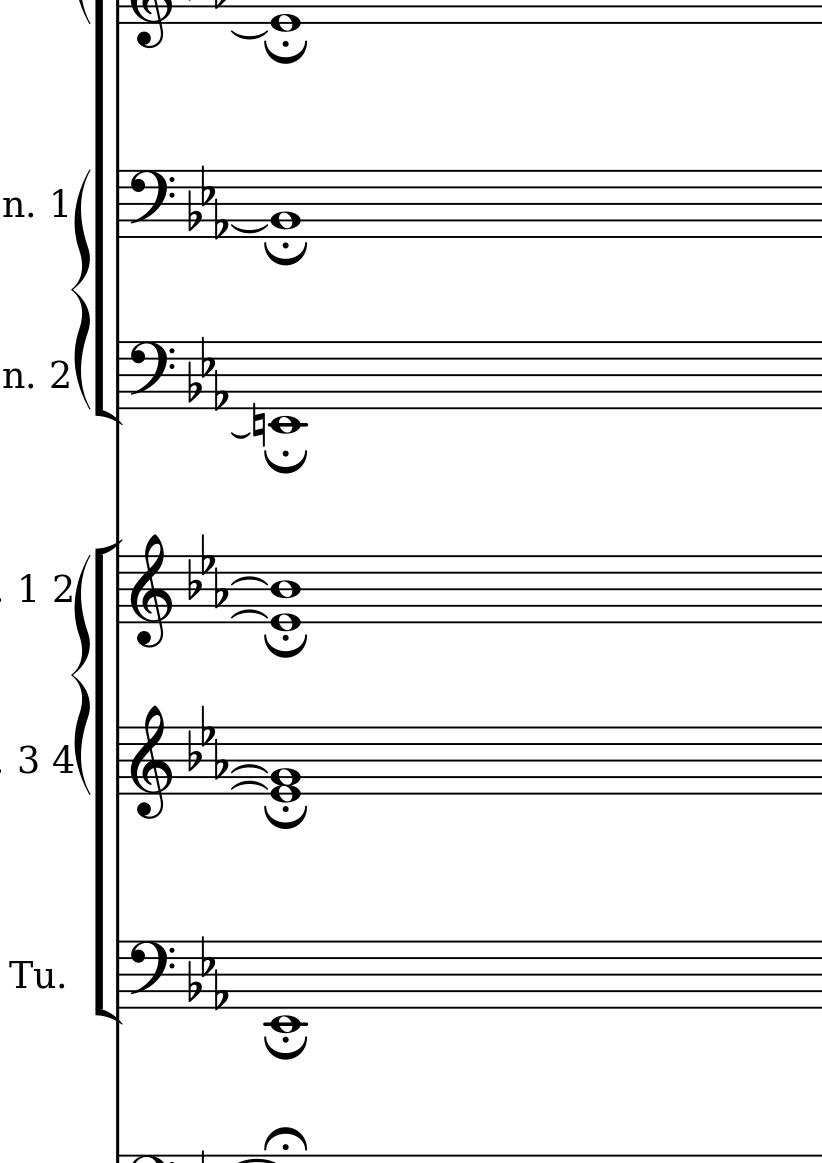1: (52, 185, 70, 227)
1_-2: (267, 339, 302, 436), (270, 937, 305, 1034)
1_2: (268, 167, 303, 238)
2: (49, 355, 71, 390), (52, 572, 72, 605)
3: (18, 743, 40, 775)
4: (54, 740, 75, 779)
Brace: (71, 166, 92, 410), (73, 553, 91, 793)
Bracke: (94, 537, 124, 1026)
E_F: (185, 933, 231, 1011), (184, 703, 230, 780), (186, 335, 232, 411), (185, 531, 230, 608), (185, 164, 230, 238)
Fclef: (128, 939, 176, 1013), (128, 339, 175, 413), (128, 168, 176, 239)
Fermata_above: (261, 631, 311, 660), (261, 804, 311, 831), (261, 1034, 311, 1061), (263, 1126, 310, 1154), (263, 446, 309, 474), (263, 38, 309, 65), (263, 241, 308, 265)
Gclef: (129, 534, 174, 649), (129, 704, 173, 821)
Natural: (251, 402, 267, 448)
Single_barline: (111, 555, 128, 624), (110, 943, 127, 1012), (110, 171, 127, 239), (111, 343, 127, 411), (111, 729, 127, 794)
Slur: (230, 26, 272, 40), (231, 221, 270, 236), (230, 608, 268, 620), (231, 763, 269, 774), (230, 576, 268, 586), (232, 781, 265, 792), (228, 429, 252, 439)
